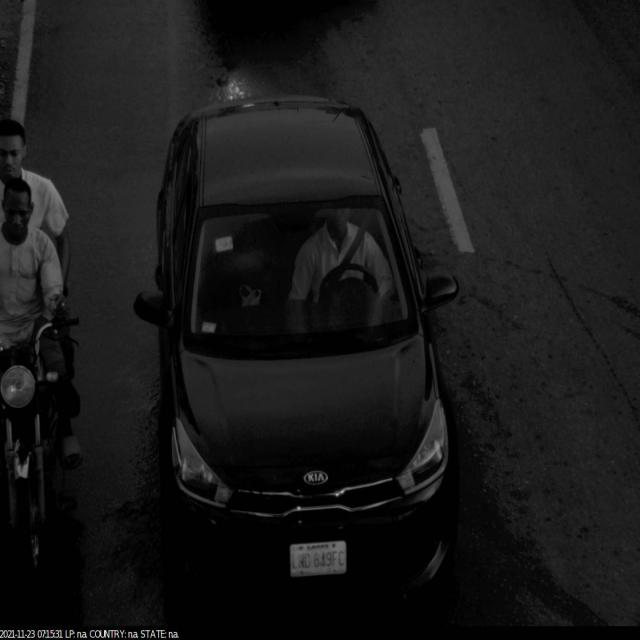windshield: (178, 189, 420, 364)
